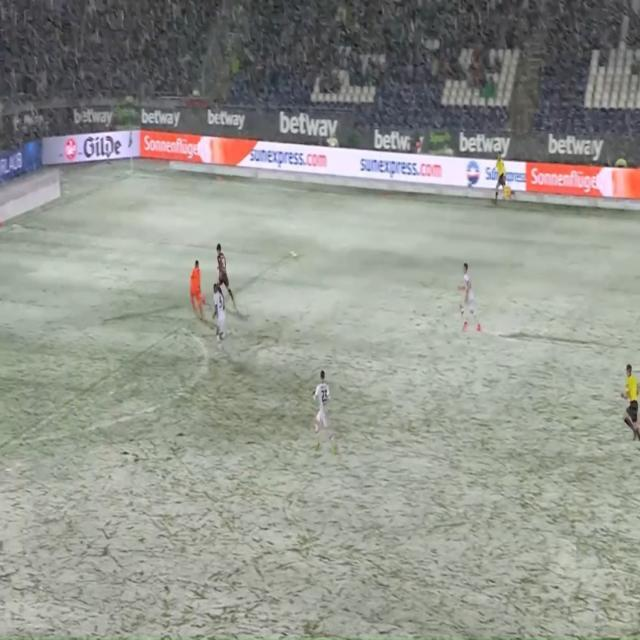ball: (201, 292, 207, 305)
goalkeeper: (184, 251, 203, 325)
player: (310, 356, 338, 461), (201, 275, 231, 358), (452, 257, 479, 339), (208, 237, 238, 310)
referee: (612, 355, 640, 446), (488, 146, 515, 209)
